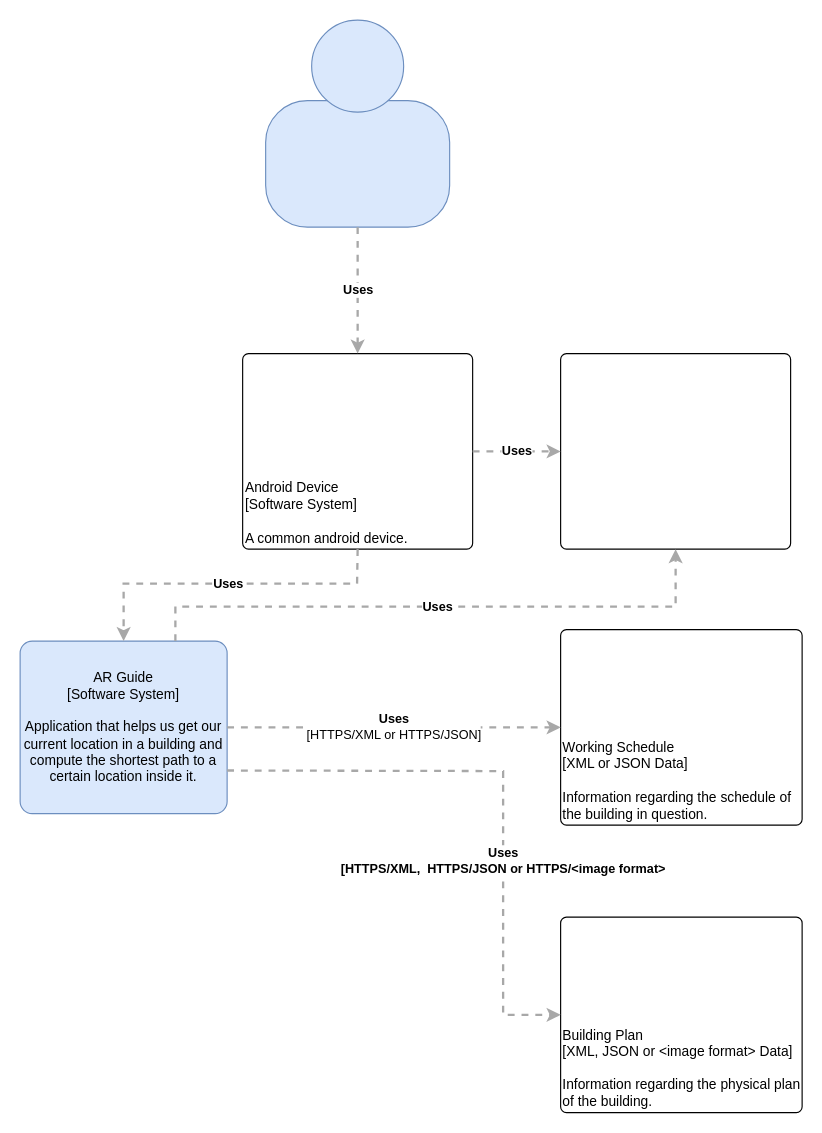
The diagram is 822 pixels wide and 1133 high, and some of its shapes have lost their labels. Each missing label, with the centre of its shape:
"Camera [Software System] A simple video-capturing camera." goes at [675,450].
"User [Person] Individual utilizing our application." goes at [357,163].
